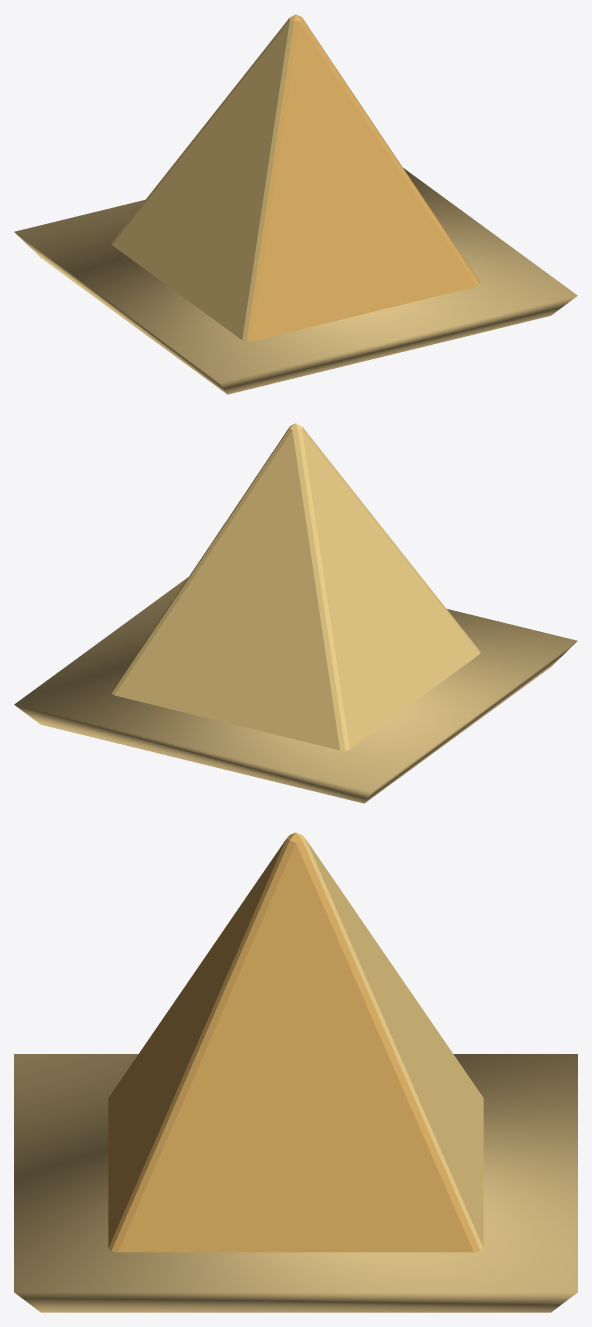
The picture shows the model from 3 angles, top to bottom: view 1: azimuth 30°, elevation 25°; view 2: azimuth 150°, elevation 25°; view 3: azimuth 270°, elevation 25°; orthographic projection. The views are drawn at different scales.
Visible parts, largest first — view 1: PyrBody, PyrBase; view 2: PyrBody, PyrBase; view 3: PyrBody, PyrBase.
Boxes of the visible parts, bbox=[...] form: PyrBody: bbox=[111, 14, 480, 341]; PyrBase: bbox=[14, 168, 577, 394]; PyrBody: bbox=[111, 423, 480, 750]; PyrBase: bbox=[14, 577, 577, 803]; PyrBody: bbox=[108, 832, 483, 1252]; PyrBase: bbox=[14, 1054, 577, 1312].
Size of the model in its own units: 8.91 by 6.49 by 8.91.
